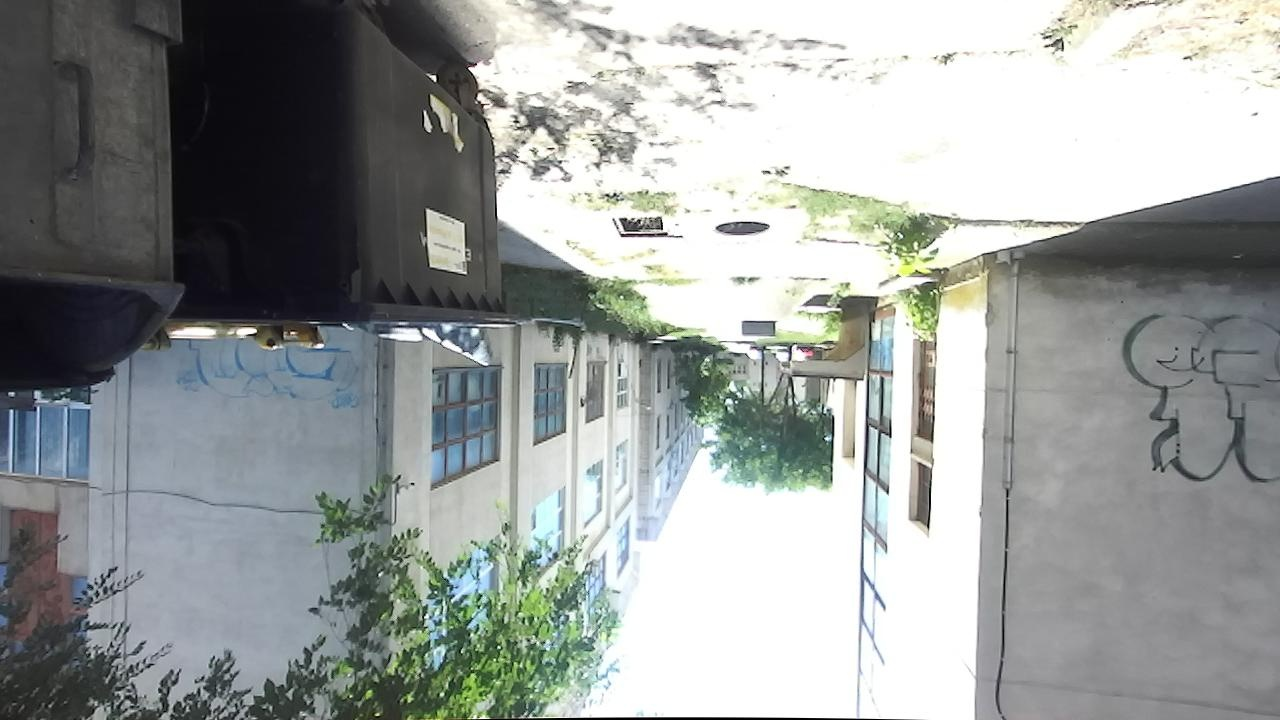drain: (605, 211, 666, 241), (708, 213, 771, 242)
